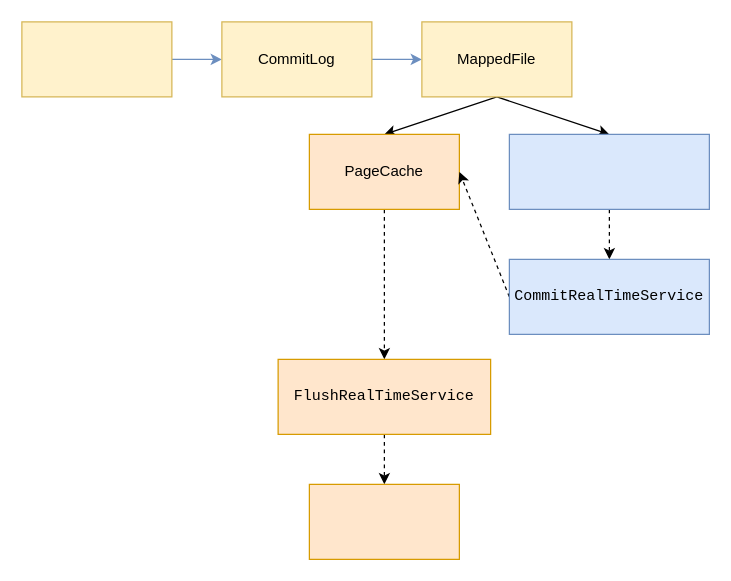
This 731x581 diagram has some shape labels left out. Here are the shapes that lost their labels. From the top down, the centre of each, then its label:
point 96,59: Producer
point 608,171: TransientStorePool
point 383,521: Disk
